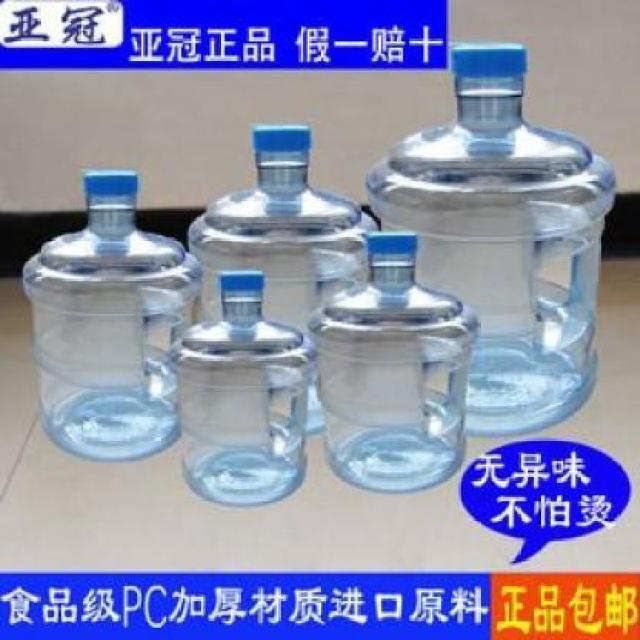coolerbottle: (362, 46, 628, 445), (309, 229, 485, 496), (164, 268, 320, 512)
